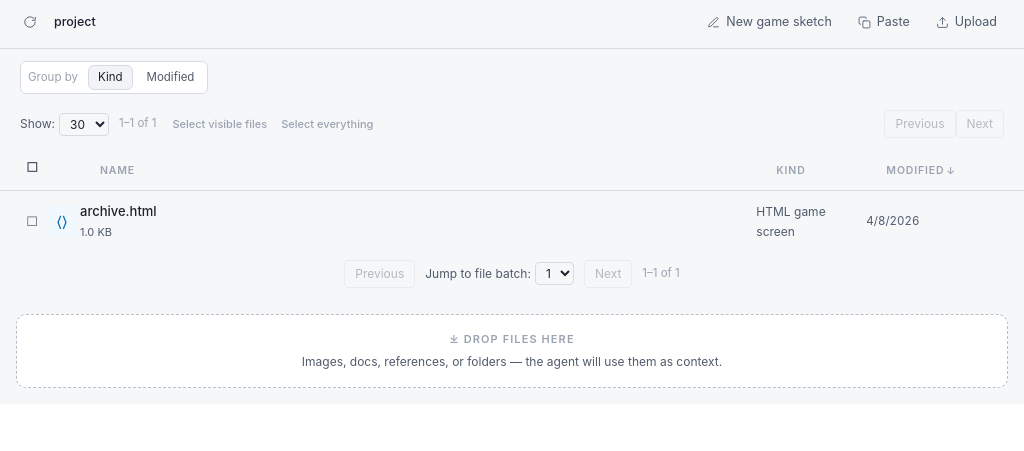
it: GameFilesPanel grouping › groups files older than thirty calendar days into older
Click the button "Modified".
click(170, 77)  # box [136,65,204,90]
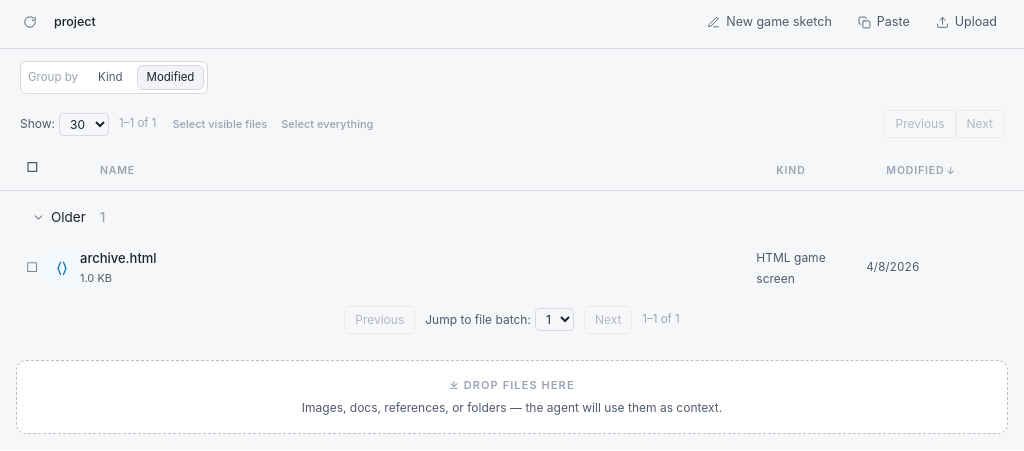
Expected: the row with test id "game-file-row-archive.html" is shown, [0,237,1023,298]
Now the text "Older" is shown, box [51,207,86,227]
